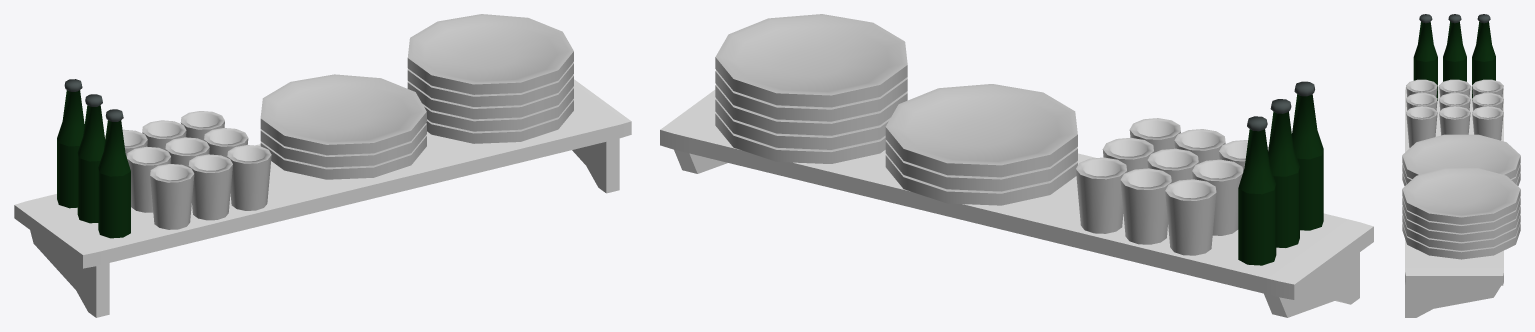
Rendered from Estanteria.fbx.
3 renders of one model, left to right at view 1: azimuth 30°, elevation 25°; view 2: azimuth 150°, elevation 25°; view 3: azimuth 270°, elevation 25°, orthographic. The views are drawn at different scales.
Visible parts, largest first — view 1: Estanteria, Plato007, Plato004, Botella011, Botella010, Botella009, Vaso009, Vaso011, Vaso010, Plato003, Plato006, Plato002 (+9 smaller); view 2: Estanteria, Plato004, Plato007, Botella009, Botella011, Botella010, Vaso015, Vaso016, Vaso017, Plato006, Plato003, Plato005 (+9 smaller); view 3: Estanteria, Plato004, Plato007, Botella011, Botella009, Botella010, Plato, Plato003, Plato002, Plato001, Vaso011, Vaso017 (+8 smaller).
Boxes of the visible parts, x1,y1,x2,y2 form: Estanteria: (14, 79, 631, 317); Plato007: (260, 74, 426, 155); Plato004: (407, 14, 573, 94); Botella011: (98, 109, 130, 238); Botella010: (77, 94, 105, 223); Botella009: (57, 79, 84, 208); Vaso009: (150, 164, 194, 229); Vaso011: (227, 145, 271, 210); Vaso010: (188, 154, 232, 220); Plato003: (407, 62, 573, 106); Plato006: (260, 123, 426, 167); Plato002: (407, 75, 573, 119); Estanteria: (660, 90, 1373, 317); Plato004: (715, 14, 907, 107); Plato007: (885, 84, 1077, 177); Botella009: (1238, 116, 1276, 265); Botella011: (1292, 81, 1323, 230); Botella010: (1268, 99, 1299, 247); Vaso015: (1165, 179, 1216, 255); Vaso016: (1120, 168, 1171, 244); Vaso017: (1076, 157, 1126, 233); Plato006: (885, 140, 1077, 191); Plato003: (715, 70, 907, 121); Plato005: (885, 154, 1077, 205); Estanteria: (1405, 86, 1503, 317); Plato004: (1402, 168, 1520, 224); Plato007: (1402, 134, 1520, 178); Botella011: (1413, 14, 1437, 100); Botella009: (1472, 14, 1495, 100); Botella010: (1443, 14, 1466, 81); Plato: (1402, 223, 1520, 259); Plato003: (1402, 197, 1520, 233); Plato002: (1402, 206, 1520, 241); Plato001: (1402, 214, 1520, 250); Vaso011: (1406, 106, 1437, 147); Vaso017: (1472, 106, 1503, 140).
Size of the model in its own units: 14.77 by 4.8 by 3.89.
